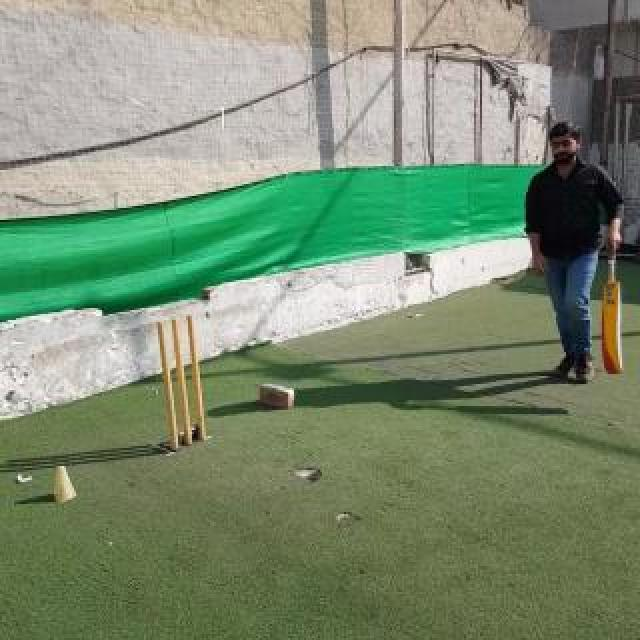bat: (600, 239, 622, 375)
